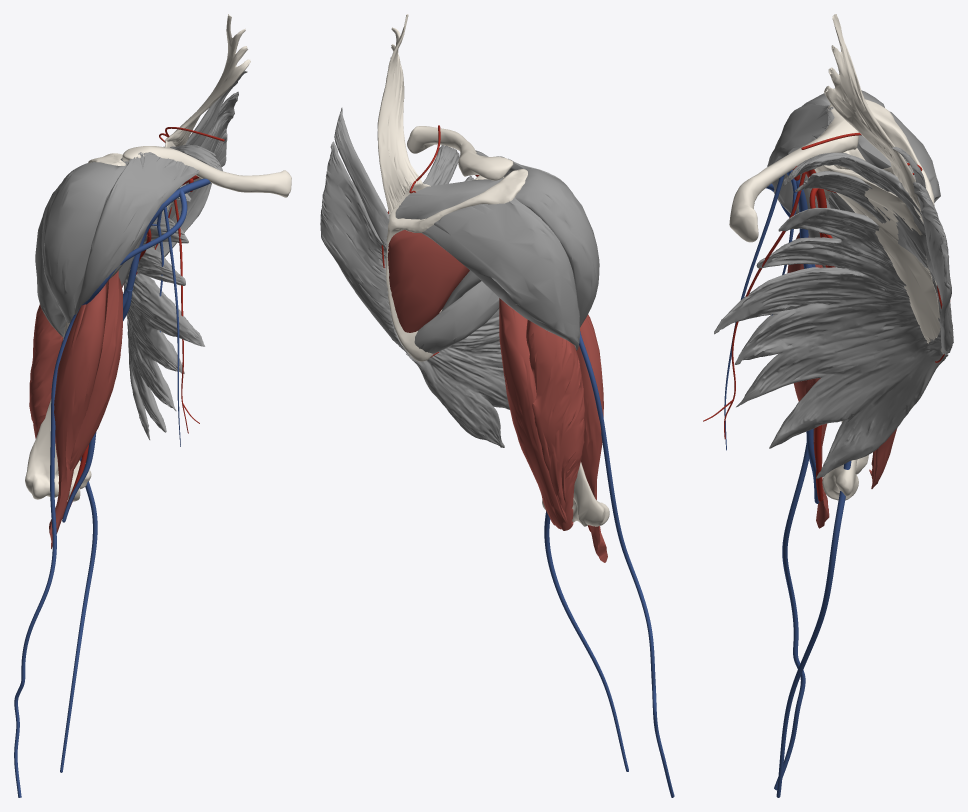
Rendered from shoulder_right.glb.
3 renders of one model, left to right at view 1: azimuth 30°, elevation 25°; view 2: azimuth 150°, elevation 25°; view 3: azimuth 270°, elevation 25°, orthographic. The views are drawn at different scales.
Parts seen in each view (by area): view 1: right serratus anterior, clavicular part of right deltoid, acromial part of right deltoid, long head of right biceps brachii, short head of right biceps brachii, right cephalic vein, right clavicle, lateral head of right triceps brachii, right rhomboid major, right humerus, right levator scapulae, right basilic vein (+6 smaller); view 2: spinal part of right deltoid, right serratus anterior, lateral head of right triceps brachii, right rhomboid major, right infraspinatus muscle, acromial part of right deltoid, long head of right triceps brachii, right levator scapulae, right scapula, long head of right biceps brachii, right teres major, right clavicle (+5 smaller); view 3: right serratus anterior, right subscapularis, right levator scapulae, right clavicle, right rhomboid major, clavicular part of right deltoid, right cephalic vein, right basilic vein, right scapula, right humerus, spinal part of right deltoid, right lateral thoracic vein (+6 smaller).
Part boxes in pixels (x1,y1,x2,y2): right serratus anterior: (123,144,222,439); clavicular part of right deltoid: (74,152,199,314); acromial part of right deltoid: (42,162,126,323); long head of right biceps brachii: (49,284,106,548); short head of right biceps brachii: (69,270,122,470); right cephalic vein: (14,190,187,797); right clavicle: (122,146,291,197); lateral head of right triceps brachii: (29,304,63,438); right rhomboid major: (154,91,238,256); right humerus: (25,321,91,501); right levator scapulae: (164,14,250,146); right basilic vein: (60,289,132,772); spinal part of right deltoid: (422,197,580,350); right serratus anterior: (391,144,509,447); lateral head of right triceps brachii: (526,320,585,530); right rhomboid major: (320,141,412,357); right infraspinatus muscle: (387,230,469,332); acromial part of right deltoid: (515,168,599,327); long head of right triceps brachii: (499,298,567,529); right levator scapulae: (377,14,422,214); right scapula: (386,169,527,361); long head of right biceps brachii: (576,314,607,562); right teres major: (414,281,499,353); right clavicle: (407,126,513,180); right serratus anterior: (714,152,948,478); right subscapularis: (814,165,940,343); right levator scapulae: (824,14,920,210); right clavicle: (729,105,859,242); right rhomboid major: (912,181,953,355); clavicular part of right deltoid: (767,104,834,214); right cephalic vein: (766,183,808,790); right basilic vein: (776,264,851,797); right scapula: (830,99,943,354); right humerus: (814,169,868,500); spinal part of right deltoid: (889,111,940,202); right lateral thoracic vein: (724,176,784,450).
Bounding box in the file's own units: 0.28 × 0.6941 × 0.171.
